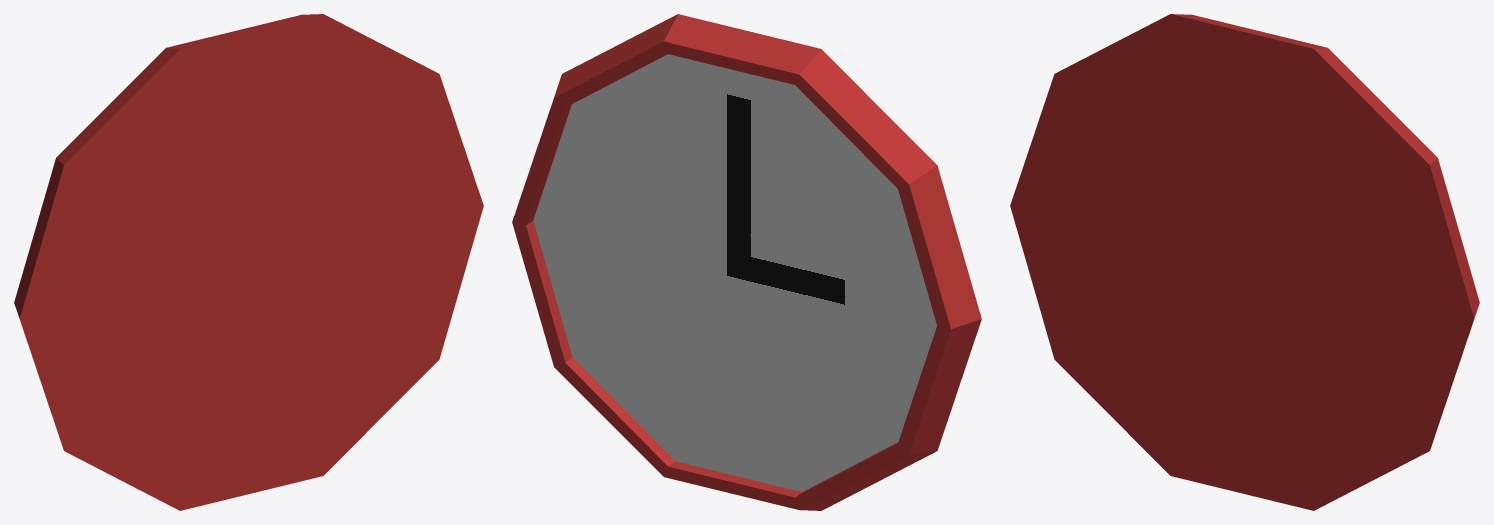
The model's file is Clock.glb.
3 renders of one model, left to right at view 1: azimuth 30°, elevation 25°; view 2: azimuth 150°, elevation 25°; view 3: azimuth 330°, elevation 25°, orthographic.
Parts seen in each view (by area): view 1: clock; view 2: clock; view 3: clock.
Part boxes in pixels (x1,y1,x2,y2): clock: (14, 14, 483, 510); clock: (512, 14, 981, 510); clock: (1010, 14, 1479, 510).
Bounding box in the file's own units: 0.46 × 0.4375 × 0.0313.
1 material, 1 textured.
